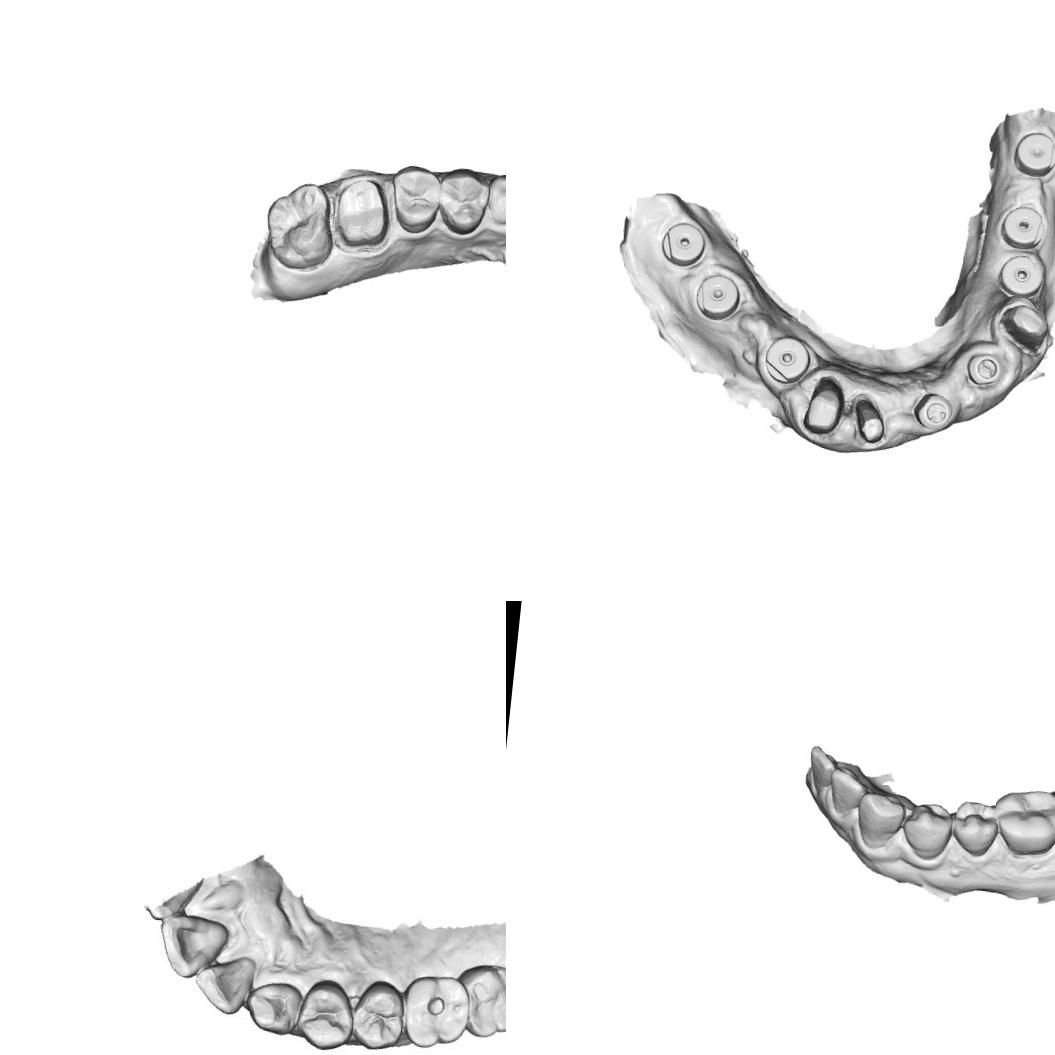canine: (898, 796, 958, 863), (243, 976, 302, 1038), (484, 171, 506, 231)
crown: (330, 174, 393, 252), (992, 300, 1054, 351), (801, 372, 847, 439), (848, 392, 892, 448)
implant: (690, 270, 745, 322), (762, 333, 814, 387), (658, 216, 710, 269), (998, 202, 1048, 250), (1011, 128, 1055, 178), (996, 251, 1044, 295), (912, 388, 958, 433), (964, 349, 1006, 390)
incisor: (154, 910, 235, 984), (189, 954, 256, 1016), (852, 786, 908, 852), (825, 766, 871, 818), (804, 742, 846, 797)
molar: (260, 178, 338, 274), (398, 970, 472, 1052), (988, 784, 1055, 861), (453, 959, 506, 1043)
premolar: (296, 979, 356, 1052), (386, 162, 444, 236), (434, 164, 492, 238), (350, 978, 408, 1052), (947, 797, 1004, 861)
